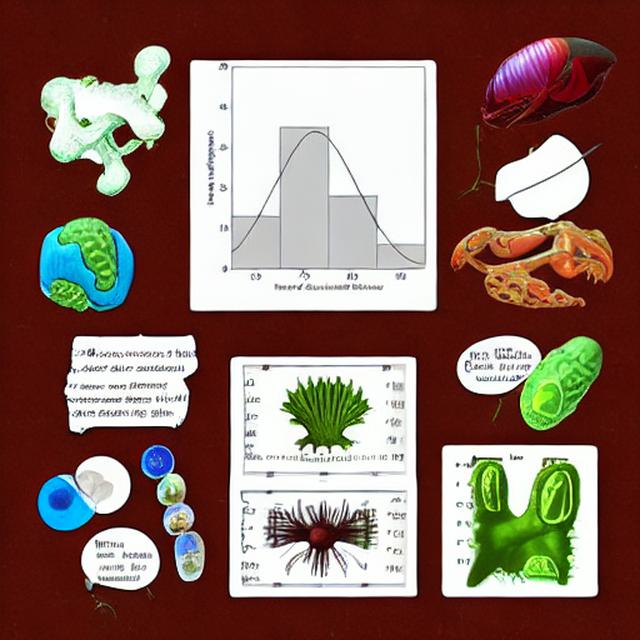Graph: (199, 63, 427, 294)
